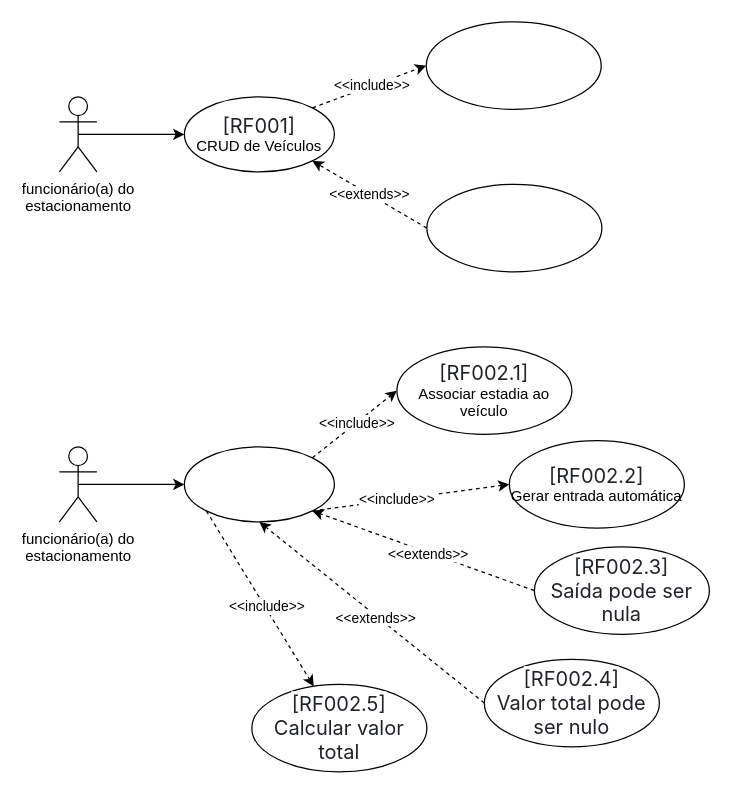
This 731x794 diagram has some shape labels left out. The shapes that lost their labels are listed below. From the top down, each one's centre as x and y in pixels, then its label:
At [513,65]: "[RF001.2] Buscar veículo por placa".
At [514,227]: "[RF001.1] Campos opcionais (ano e cor)".
At [258,484]: "[RF002] CRUD de Estadias".
